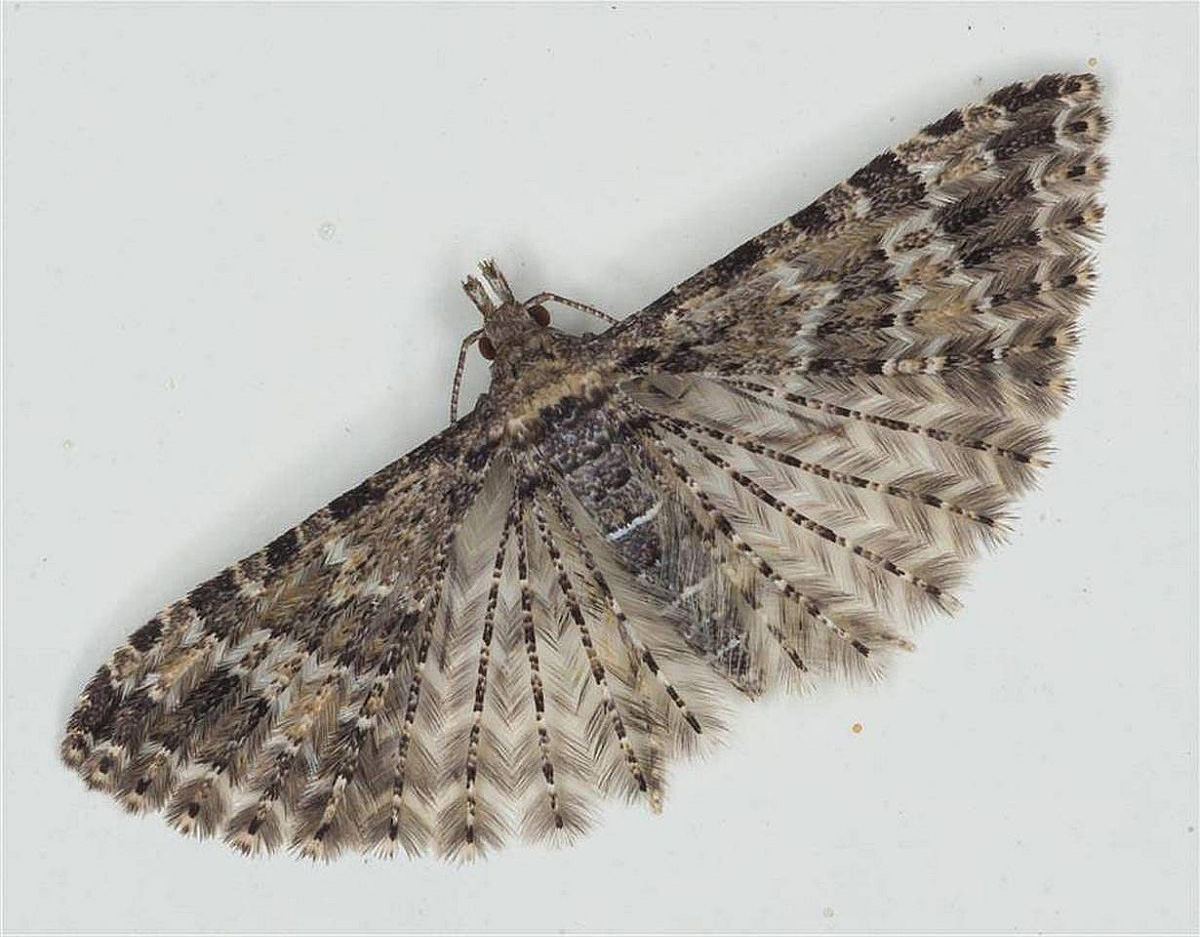Alucitidae: (61, 51, 1118, 857)
moth: (63, 53, 1120, 859)
